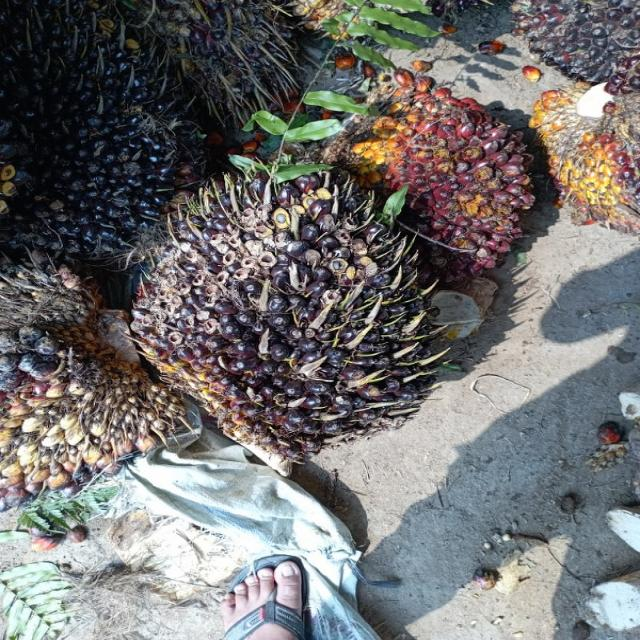fraksi 00: (119, 158, 442, 460), (0, 41, 222, 264)
fraksi 1: (334, 71, 553, 265)
